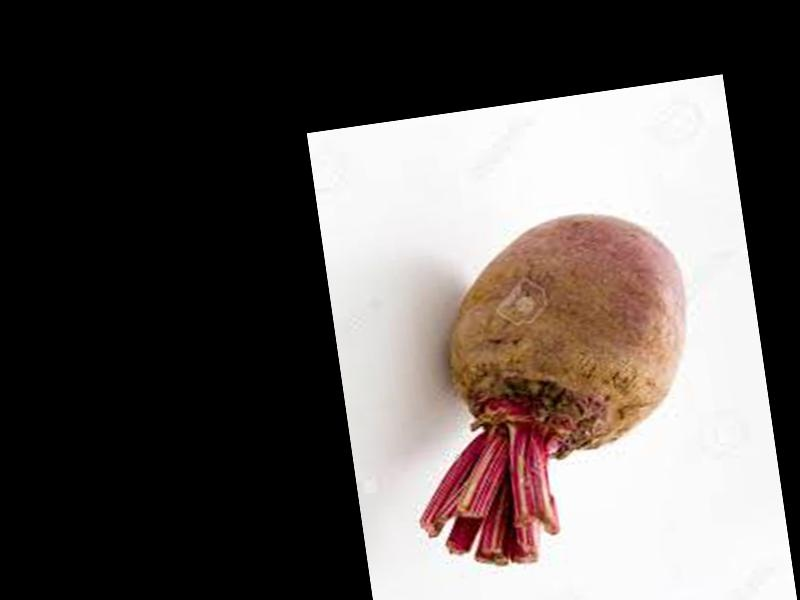Beet: (377, 195, 720, 577)
